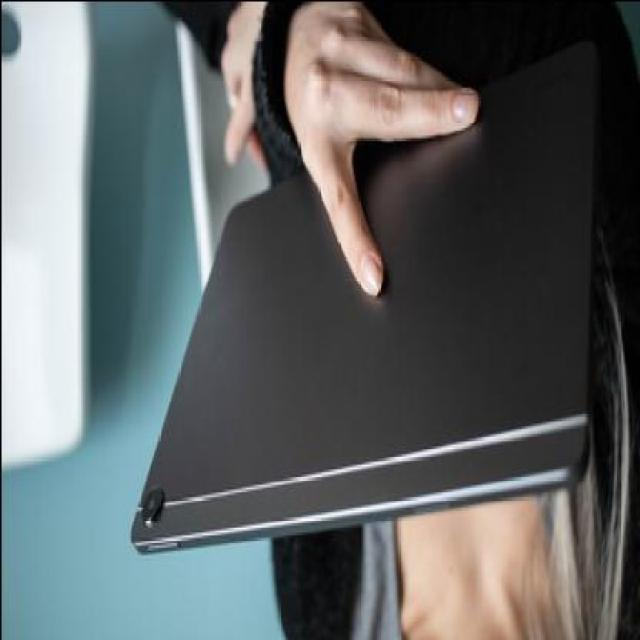tablet: (101, 56, 632, 578)
